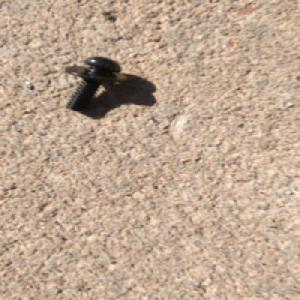BoltWasher: (62, 56, 130, 112)
